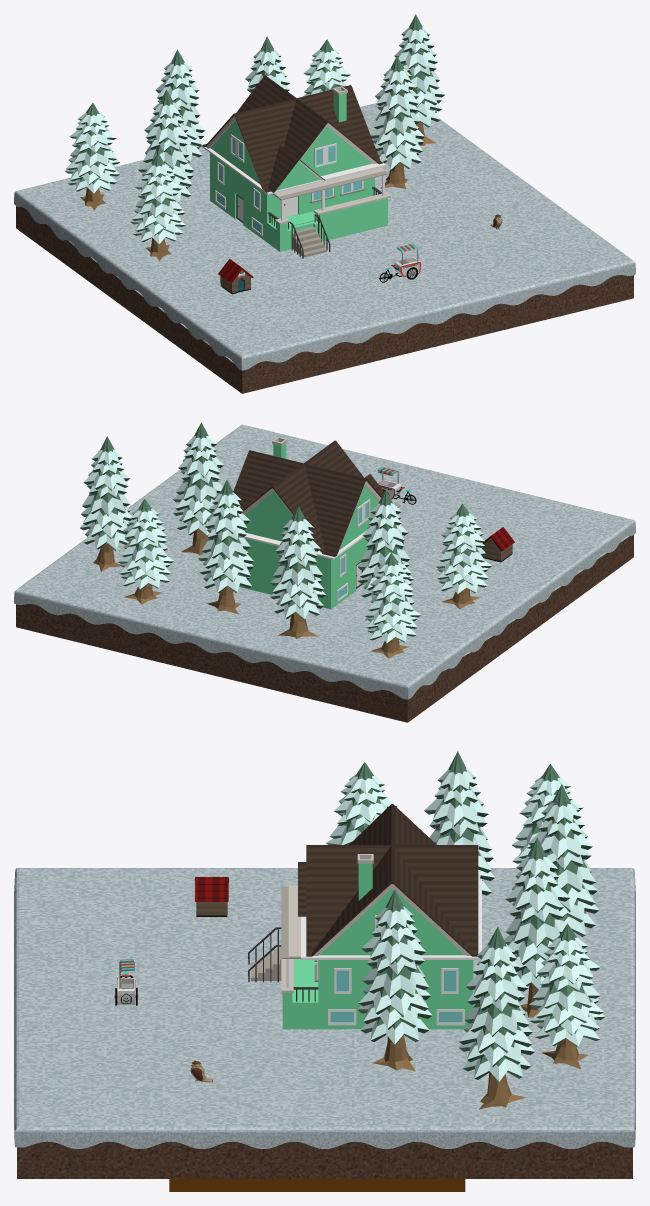
The picture shows the model from 3 angles, top to bottom: view 1: azimuth 30°, elevation 25°; view 2: azimuth 150°, elevation 25°; view 3: azimuth 270°, elevation 25°; orthographic projection. The views are drawn at different scales.
Visible parts, largest first — view 1: Cube.003, Cube.352, OBJRANDOM_DOGHOUSE, VEHICLES_SNOWBAL_BIKE; view 2: Cube.003, Cube.352, OBJRANDOM_DOGHOUSE, VEHICLES_SNOWBAL_BIKE; view 3: Cube.003, Cube.352, UNDERGROUND_ART_PIECE_VAN_GOGH, OBJRANDOM_DOGHOUSE, VEHICLES_SNOWBAL_BIKE.
Boxes of the visible parts, x1,y1,x2,y2 form: Cube.003: [14, 14, 635, 393]; Cube.352: [201, 75, 390, 258]; OBJRANDOM_DOGHOUSE: [218, 259, 253, 294]; VEHICLES_SNOWBAL_BIKE: [379, 243, 420, 282]; Cube.003: [14, 422, 635, 722]; Cube.352: [233, 437, 403, 609]; OBJRANDOM_DOGHOUSE: [482, 527, 514, 562]; VEHICLES_SNOWBAL_BIKE: [377, 467, 416, 504]; Cube.003: [14, 751, 635, 1178]; Cube.352: [248, 804, 481, 1029]; UNDERGROUND_ART_PIECE_VAN_GOGH: [169, 1179, 465, 1191]; OBJRANDOM_DOGHOUSE: [194, 877, 228, 916]; VEHICLES_SNOWBAL_BIKE: [114, 959, 137, 1005].
Size of the model in its own units: 4040 by 1818 by 4040.
Materials: 37 (4 with a texture image).
